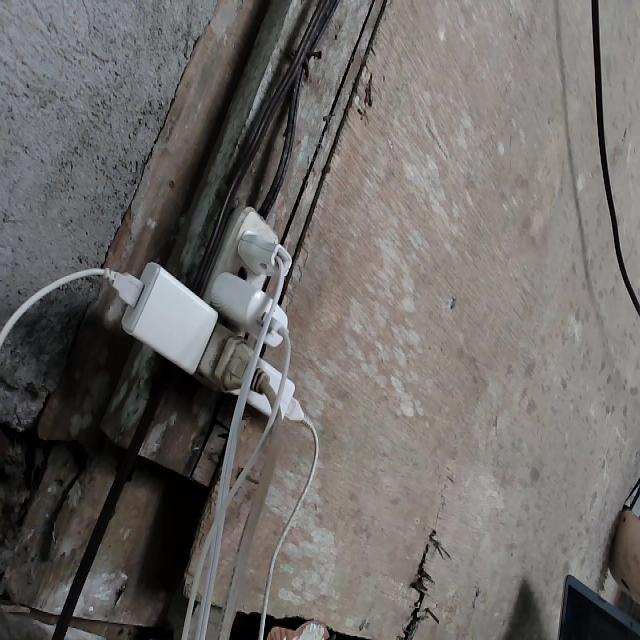-: (122, 204, 312, 415)
